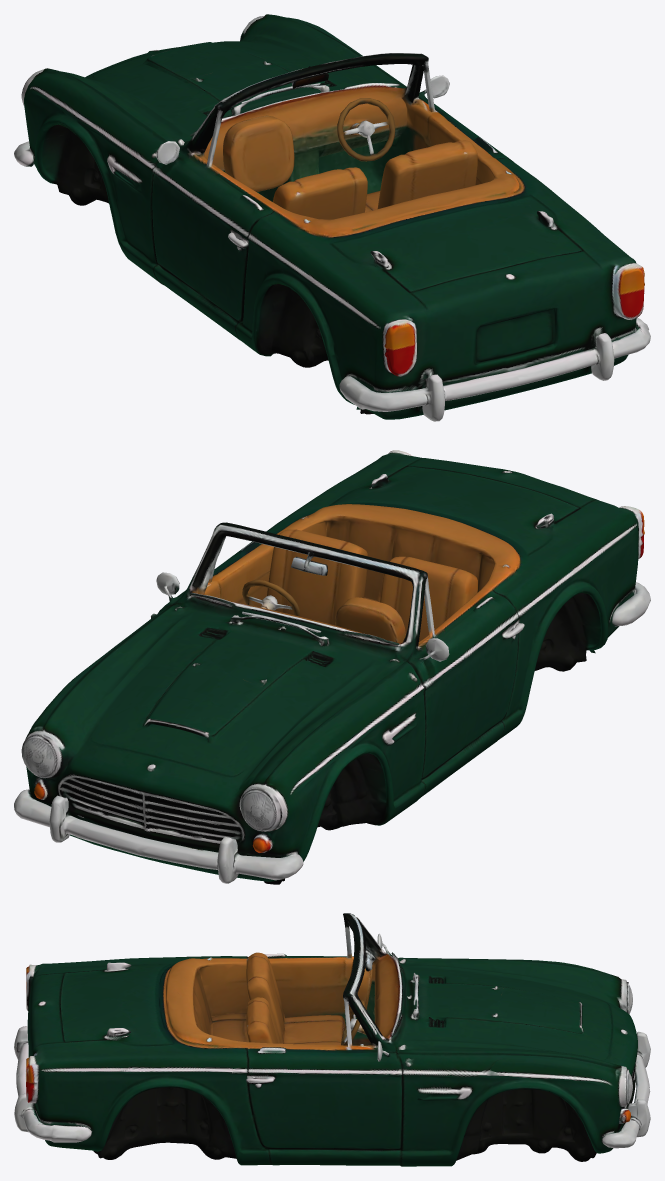
Rendered from roadster.glb.
The picture shows the model from 3 angles, top to bottom: view 1: azimuth 30°, elevation 25°; view 2: azimuth 150°, elevation 25°; view 3: azimuth 270°, elevation 25°; orthographic projection. The views are drawn at different scales.
Parts seen in each view (by area): view 1: tripo_node_93002856-374b-46e7-ba36-a0d4143e743c; view 2: tripo_node_93002856-374b-46e7-ba36-a0d4143e743c; view 3: tripo_node_93002856-374b-46e7-ba36-a0d4143e743c.
Boxes of the visible parts, bbox=[...] form: tripo_node_93002856-374b-46e7-ba36-a0d4143e743c: bbox=[14, 14, 650, 421]; tripo_node_93002856-374b-46e7-ba36-a0d4143e743c: bbox=[14, 450, 650, 884]; tripo_node_93002856-374b-46e7-ba36-a0d4143e743c: bbox=[14, 913, 650, 1166].
Size of the model in its own units: 1.88 by 1.3 by 4.29.
Materials: 1 (1 with a texture image).
